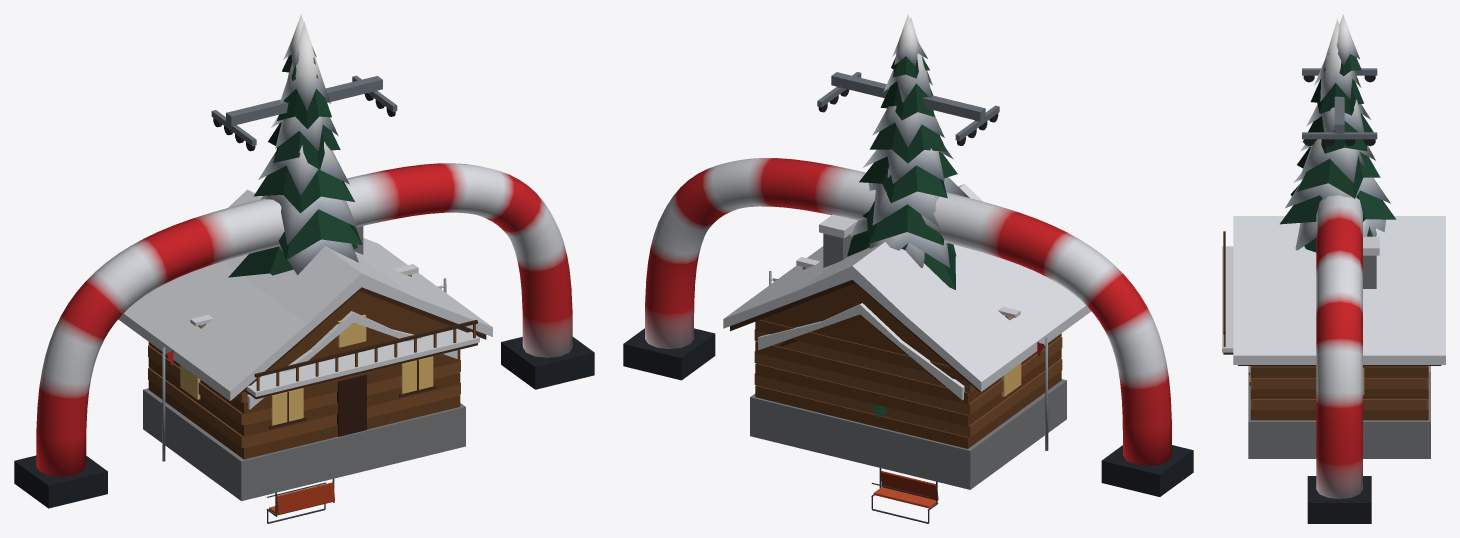
File: models.glb
3 views of the same model, side by side, from view 1: azimuth 30°, elevation 25°; view 2: azimuth 150°, elevation 25°; view 3: azimuth 270°, elevation 25° (orthographic). The views are drawn at different scales.
Parts seen in each view (by area): view 1: Chalet, FinishArch, TreeC, LiftPylon, LiftChair, MountainHut; view 2: Chalet, FinishArch, TreeC, LiftPylon, MountainHut, LiftChair; view 3: Chalet, FinishArch, TreeC, LiftPylon.
Boxes of the visible parts, bbox=[...] form: Chalet: bbox=[118, 189, 492, 501]; FinishArch: bbox=[14, 163, 594, 508]; TreeC: bbox=[228, 14, 362, 434]; LiftPylon: bbox=[211, 75, 397, 151]; LiftChair: bbox=[266, 478, 334, 523]; MountainHut: bbox=[247, 311, 457, 409]; Chalet: bbox=[723, 184, 1091, 489]; FinishArch: bbox=[623, 158, 1193, 496]; TreeC: bbox=[847, 14, 969, 417]; LiftPylon: bbox=[817, 72, 999, 145]; MountainHut: bbox=[758, 303, 964, 400]; LiftChair: bbox=[871, 468, 938, 523]; Chalet: bbox=[1222, 216, 1445, 458]; FinishArch: bbox=[1307, 195, 1371, 523]; TreeC: bbox=[1280, 14, 1396, 252]; LiftPylon: bbox=[1302, 68, 1377, 146].
Size of the model in its own units: 20.2 by 17.94 by 7.71.
